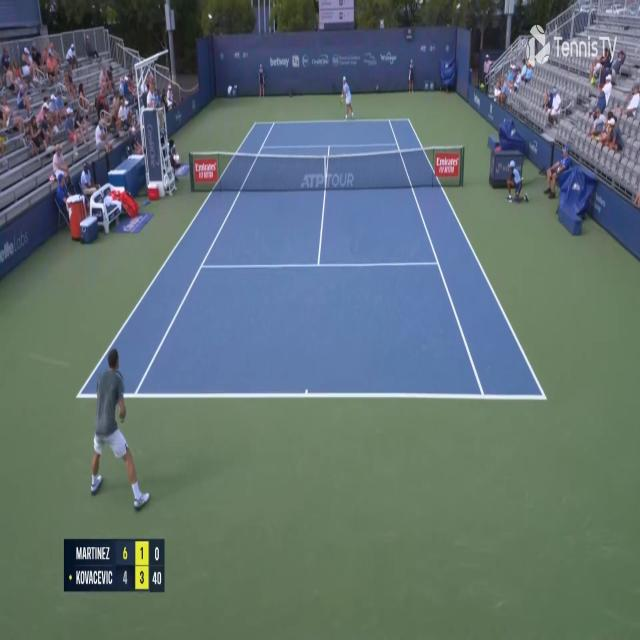tennis-player: (87, 342, 155, 513), (338, 74, 355, 122)
